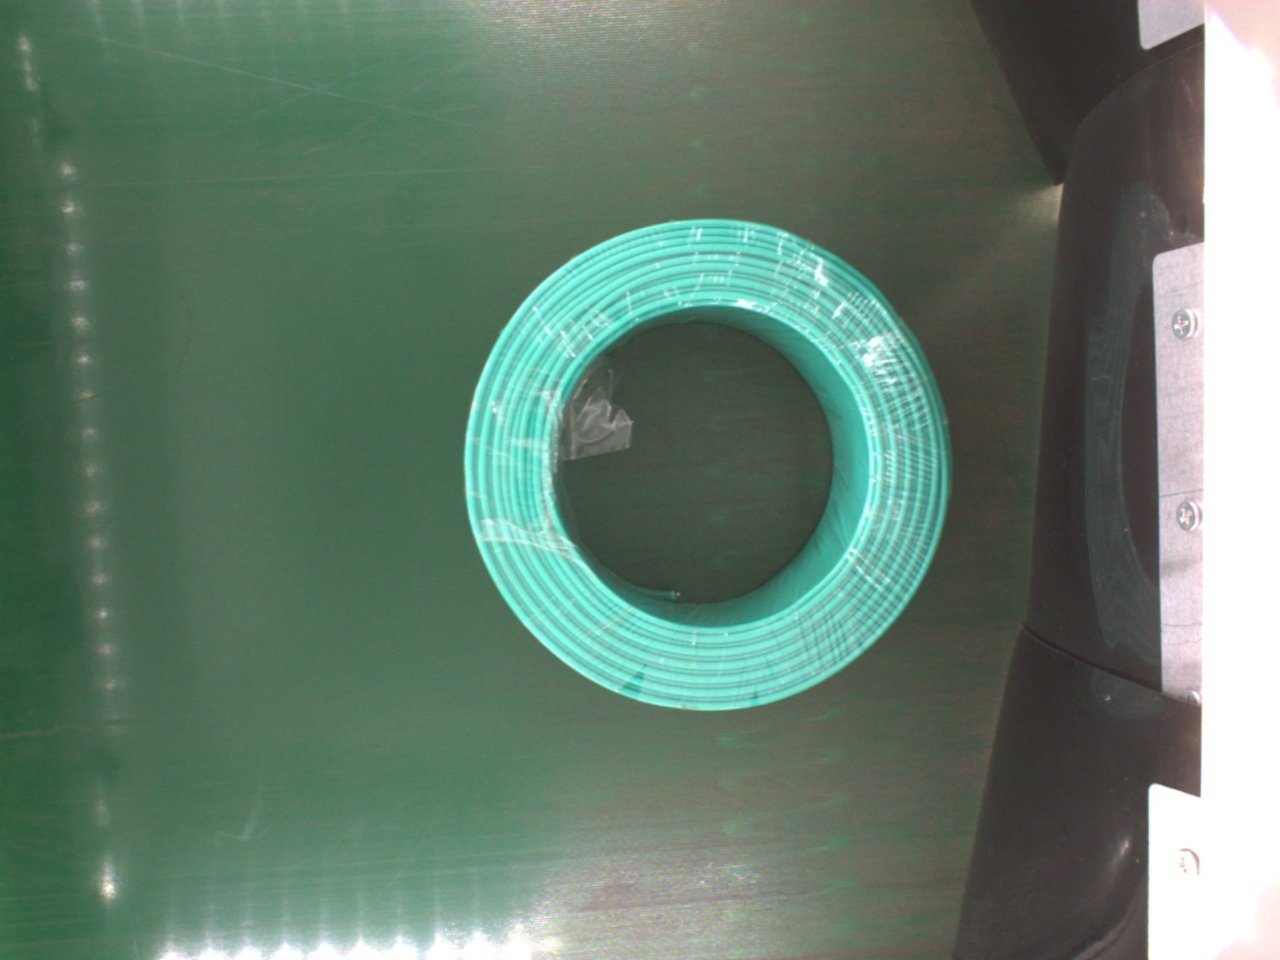green: (454, 219, 948, 716)
